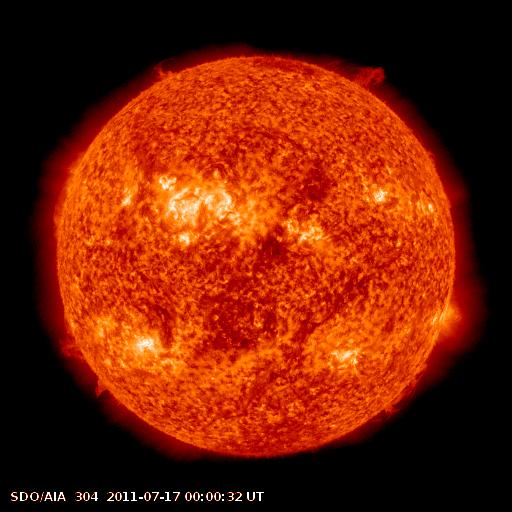prominence: (374, 354, 435, 423), (323, 45, 396, 100), (43, 153, 82, 233), (45, 329, 96, 364), (141, 53, 184, 91), (84, 374, 116, 402)
